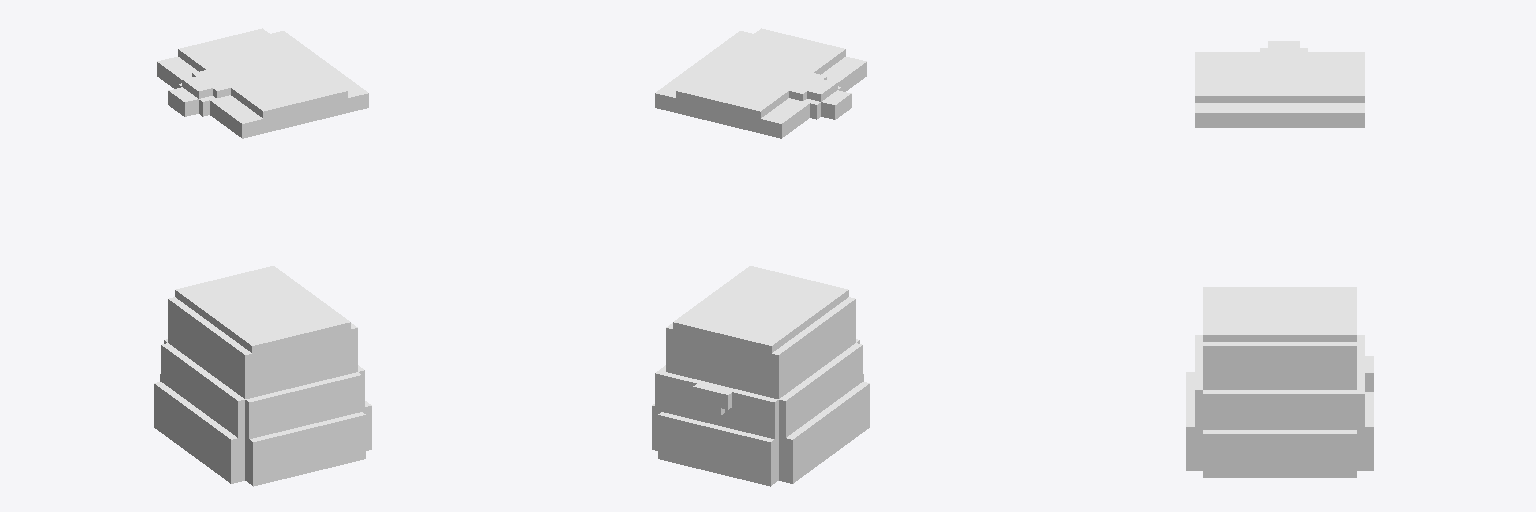
The model's file is blenderLid.obj.
3 views of the same model, side by side, from view 1: azimuth 30°, elevation 25°; view 2: azimuth 150°, elevation 25°; view 3: azimuth 270°, elevation 25° (orthographic).
Parts seen in each view (by area): view 1: blenderLid; view 2: blenderLid; view 3: blenderLid.
Part boxes in pixels (bbox=[...]): blenderLid: bbox=[154, 28, 371, 486]; blenderLid: bbox=[652, 28, 869, 486]; blenderLid: bbox=[1186, 41, 1373, 477].
Bounding box in the file's own units: 2.2 × 5 × 2.3.